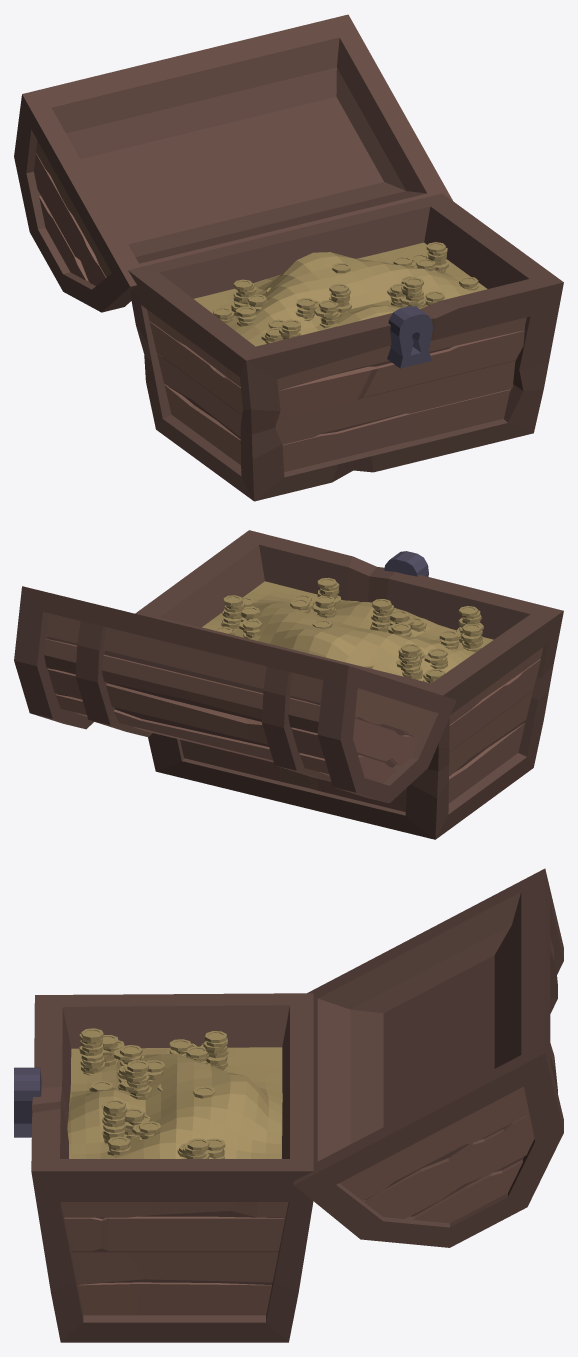
File: chest_gold.glb
3 renders of one model, top to bottom at view 1: azimuth 30°, elevation 25°; view 2: azimuth 150°, elevation 25°; view 3: azimuth 270°, elevation 25°, orthographic. The views are drawn at different scales.
Parts seen in each view (by area): view 1: Chest_Base, Chest_Top; view 2: Chest_Base, Chest_Top; view 3: Chest_Base, Chest_Top.
Boxes of the visible parts, box(x1,y1,x2,y2) form: Chest_Base: box(128, 193, 563, 501); Chest_Top: box(14, 14, 452, 312); Chest_Base: box(135, 530, 563, 839); Chest_Top: box(14, 586, 456, 803); Chest_Base: box(14, 993, 313, 1342); Chest_Top: box(293, 868, 563, 1247).
Bounding box in the file's own units: 1.18 × 0.8995 × 1.48.
